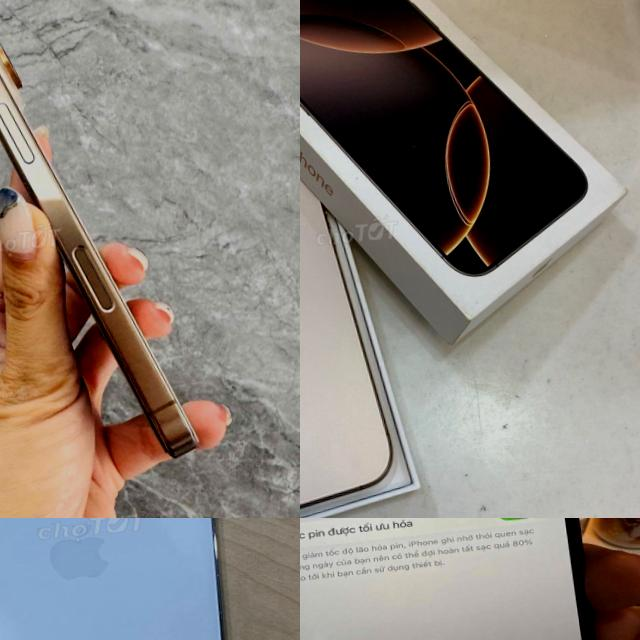gen_12_13: (300, 518, 609, 640), (0, 518, 283, 640)
gen_16: (0, 0, 211, 479), (300, 101, 412, 518)
